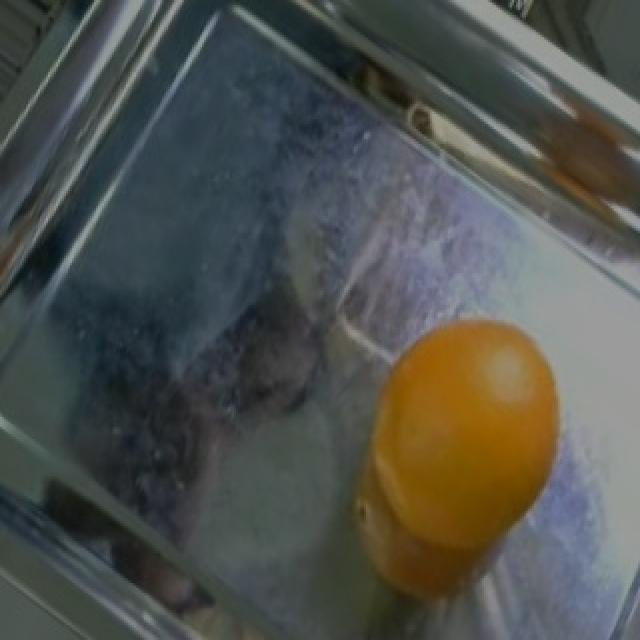Fruit: (330, 292, 588, 618)
